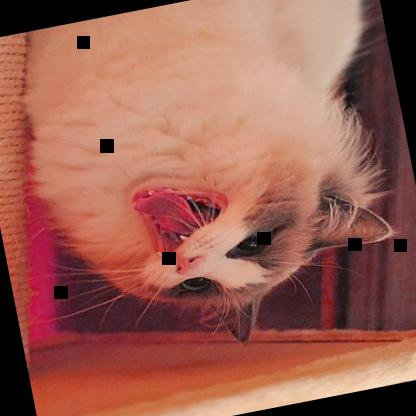cat: (3, 0, 415, 379)
